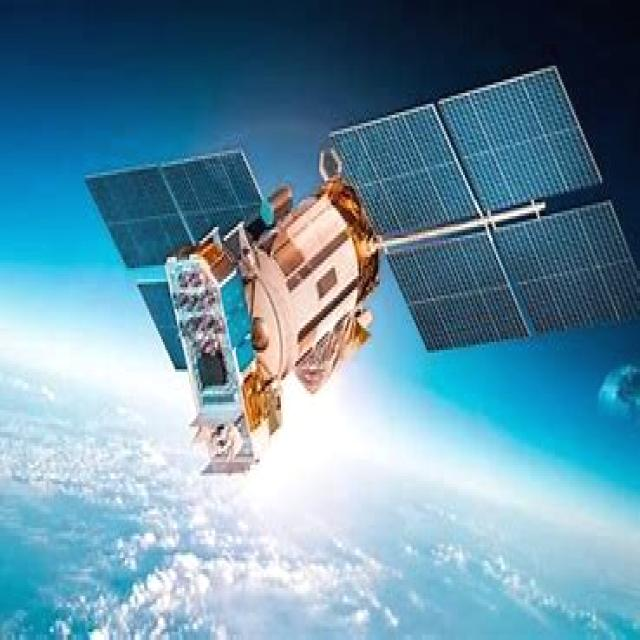satellite: (60, 69, 640, 488)
